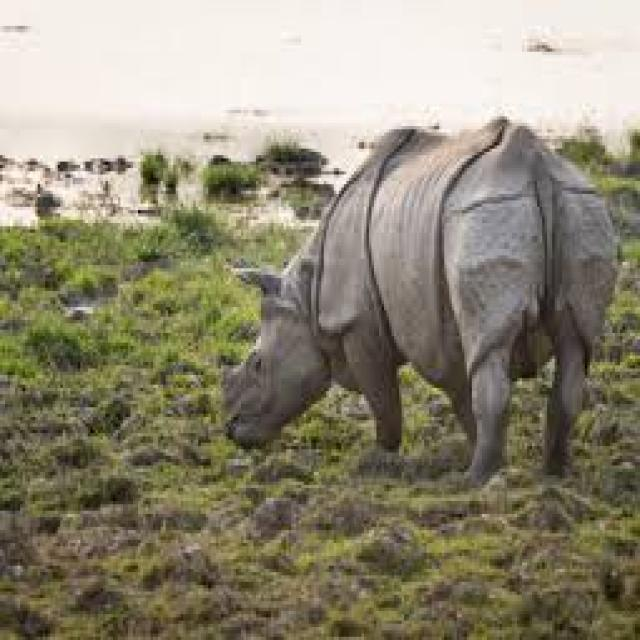Rinoceros: (208, 102, 624, 488)
